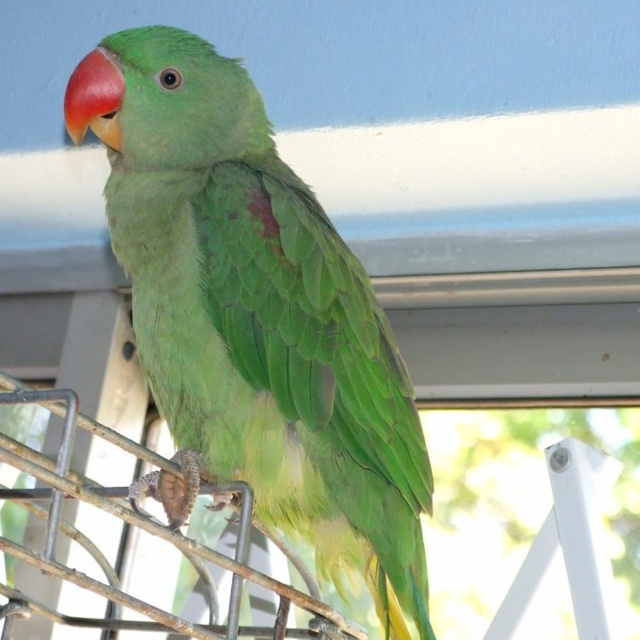Parrot: (64, 24, 436, 640)
